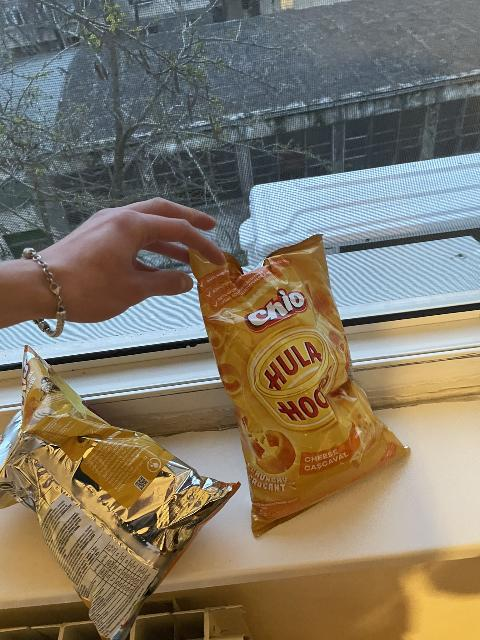Chio Cascaval 125g: (0, 347, 243, 638)
Chio Hula Hoops Cheese 70g: (186, 237, 411, 537)
